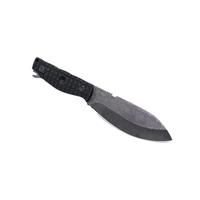knife: (27, 50, 174, 145)
